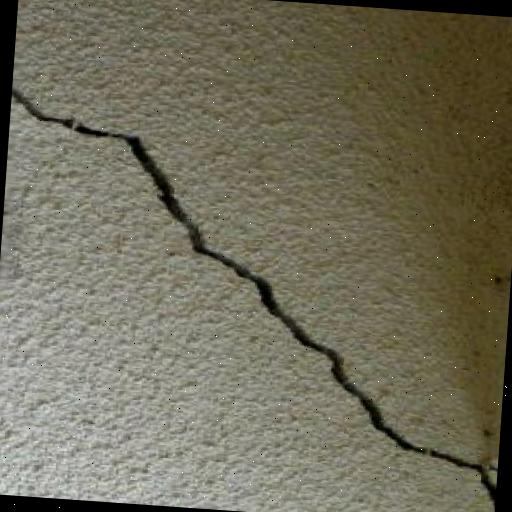spalling: (11, 82, 482, 506)
